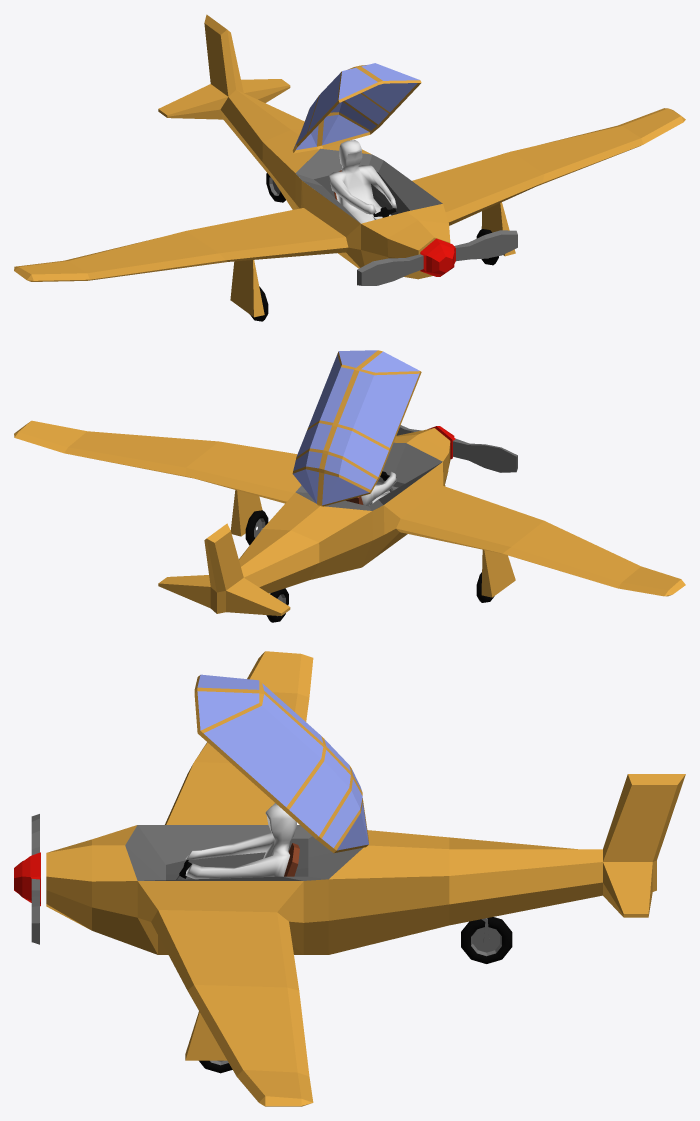
Rendered from Aiplane_New.fbx.
The picture shows the model from 3 angles, top to bottom: view 1: azimuth 30°, elevation 25°; view 2: azimuth 150°, elevation 25°; view 3: azimuth 270°, elevation 25°; orthographic projection. The views are drawn at different scales.
Visible parts, largest first — view 1: Body, TopDoor, Propeller, cockpit, Pilot; view 2: Body, TopDoor, cockpit, Propeller, Wheel_FL, Pilot; view 3: Body, TopDoor, cockpit, Pilot, Wheel_RR, Propeller.
Part boxes in pixels (x1,y1,x2,y2): Body: (14, 14, 685, 317); TopDoor: (292, 63, 421, 153); Propeller: (357, 230, 517, 285); cockpit: (295, 149, 442, 222); Pilot: (329, 140, 396, 223); Body: (14, 420, 685, 615); TopDoor: (292, 350, 421, 506); cockpit: (295, 442, 442, 510); Propeller: (396, 425, 517, 472); Wheel_FL: (245, 510, 268, 545); Pilot: (361, 471, 396, 506); Body: (46, 651, 685, 1106); TopDoor: (194, 674, 368, 853); cockpit: (125, 825, 362, 880); Pilot: (185, 803, 296, 879); Wheel_RR: (461, 917, 512, 963); Propeller: (14, 814, 40, 944).
Bounding box in the file's own units: 2571 × 809 × 1618.
